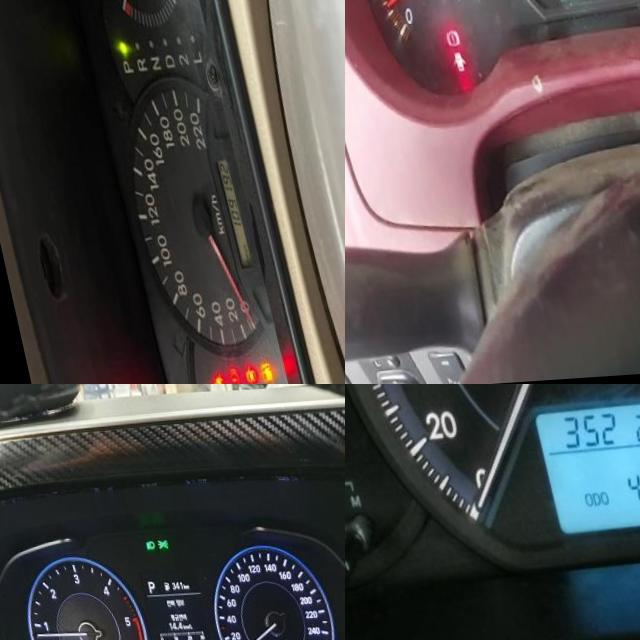Low beam: (134, 544, 145, 555)
Seat Belt: (186, 376, 204, 384)
SideLamp: (146, 543, 159, 554)
